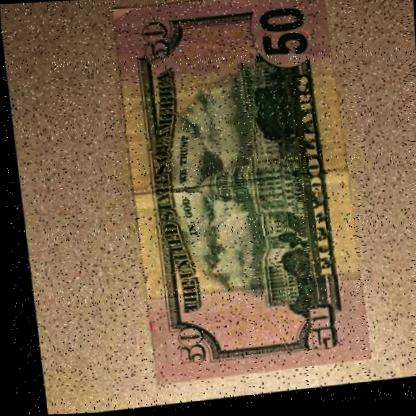fifty-back: (108, 0, 363, 390)
